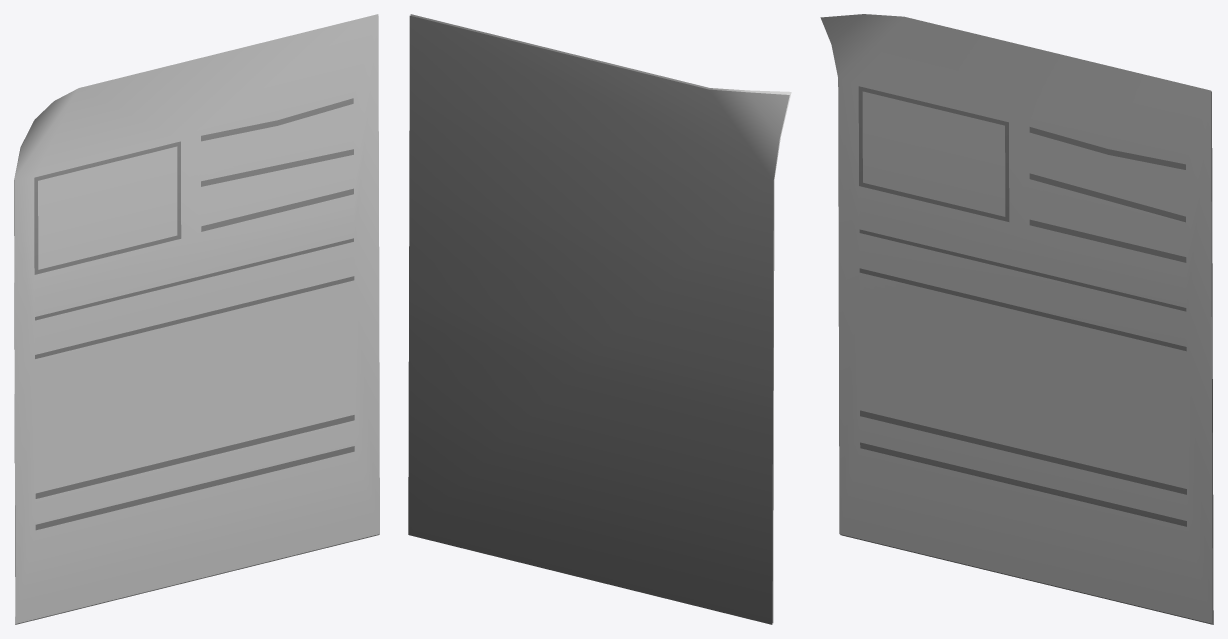
File: CR_Paper_002.FBX
3 renders of one model, left to right at view 1: azimuth 30°, elevation 25°; view 2: azimuth 150°, elevation 25°; view 3: azimuth 330°, elevation 25°, orthographic. The views are drawn at different scales.
Parts seen in each view (by area): view 1: CR_Paper_002; view 2: CR_Paper_002; view 3: CR_Paper_002.
Part boxes in pixels (<box>): CR_Paper_002: <box>14,14,379,624</box>; CR_Paper_002: <box>408,14,791,624</box>; CR_Paper_002: <box>820,14,1213,624</box>.
Size of the model in its own units: 12.63 by 17.24 by 1.16.
1 material, 1 textured.
